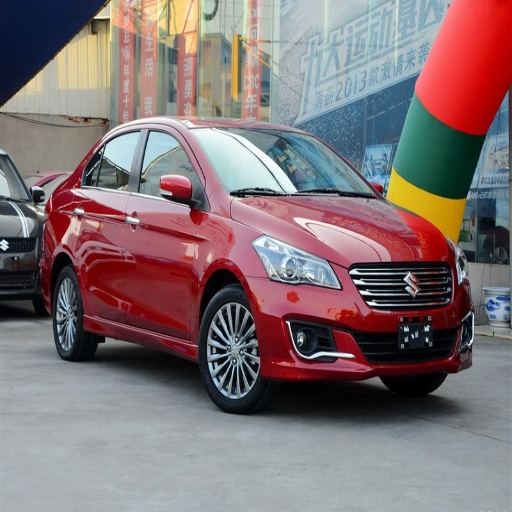front_bumper: (250, 262, 473, 378)
front_right_door: (125, 124, 204, 339)
front_right_light: (253, 235, 342, 289)
